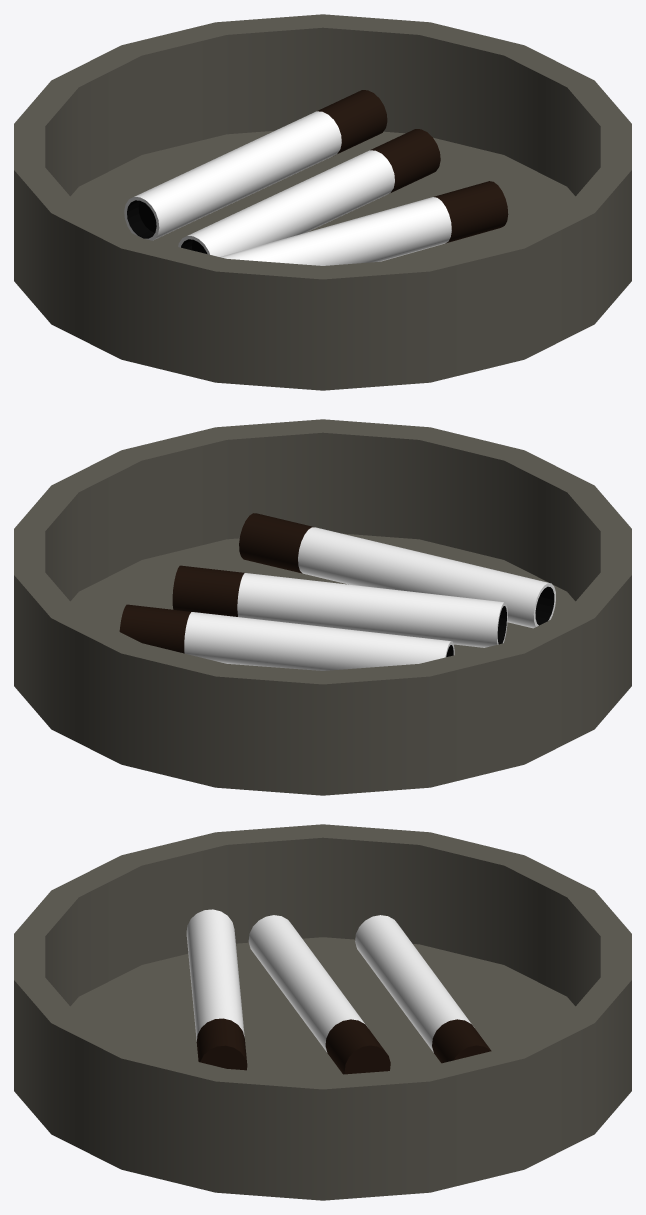
Rendered from Ash tray.fbx.
The picture shows the model from 3 angles, top to bottom: view 1: azimuth 30°, elevation 25°; view 2: azimuth 150°, elevation 25°; view 3: azimuth 270°, elevation 25°; orthographic projection.
Parts seen in each view (by area): view 1: Cylinder003, Cylinder005, Cylinder002, Cylinder004; view 2: Cylinder003, Cylinder002, Cylinder004, Cylinder005; view 3: Cylinder003, Cylinder002, Cylinder005, Cylinder004.
Part boxes in pixels (left/top/right/bottom): Cylinder003: left=14, top=14, right=631, bottom=390; Cylinder005: left=124, top=90, right=387, bottom=240; Cylinder002: left=178, top=129, right=440, bottom=256; Cylinder004: left=220, top=181, right=508, bottom=265; Cylinder003: left=14, top=419, right=631, bottom=795; Cylinder002: left=172, top=565, right=507, bottom=647; Cylinder004: left=239, top=513, right=555, bottom=628; Cylinder005: left=119, top=604, right=454, bottom=670; Cylinder003: left=14, top=824, right=631, bottom=1200; Cylinder002: left=248, top=915, right=390, bottom=1074; Cylinder005: left=355, top=915, right=491, bottom=1063; Cylinder004: left=186, top=909, right=247, bottom=1070.
Size of the model in its own units: 19.67 by 3.85 by 19.37.
